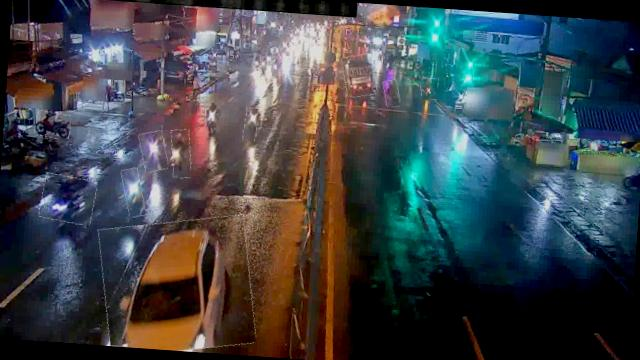Bike: (39, 173, 97, 224), (137, 130, 168, 172), (120, 168, 145, 218), (169, 129, 192, 179), (34, 110, 70, 138), (243, 107, 258, 141), (382, 79, 400, 107), (420, 77, 438, 100), (204, 102, 216, 130), (258, 54, 268, 77), (270, 56, 280, 77)
Truck: (94, 209, 259, 354), (341, 53, 378, 98)
